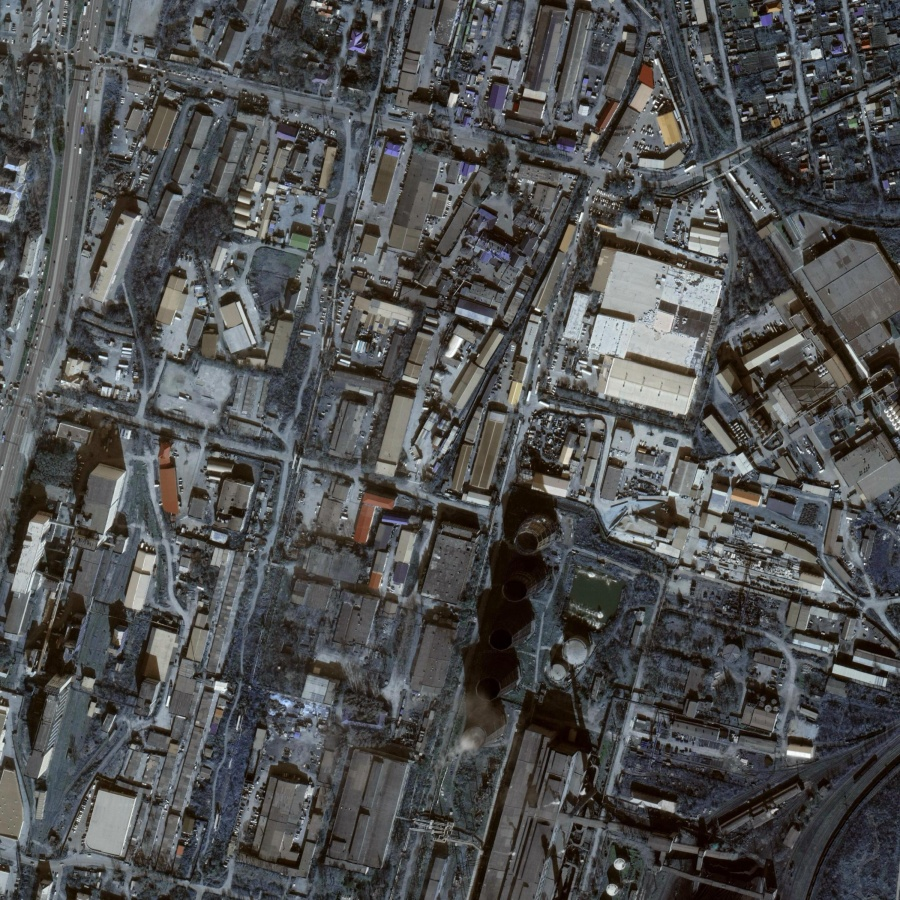PowerPlant: (430, 466, 600, 805)
